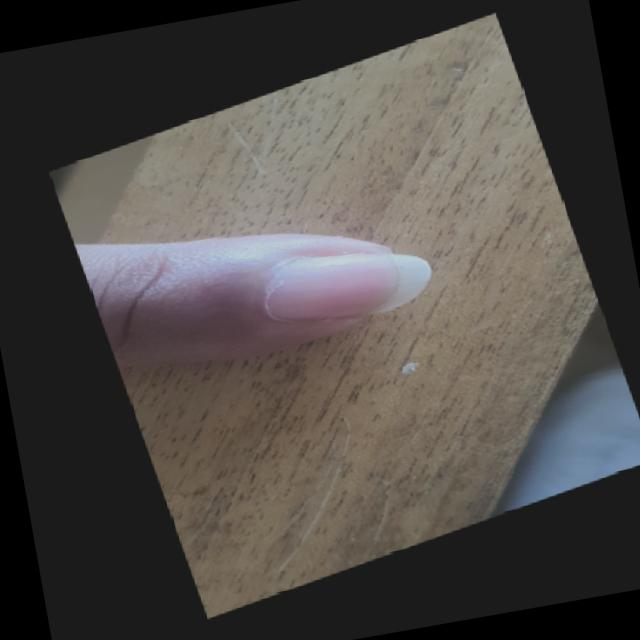Nail: (268, 251, 431, 319)
